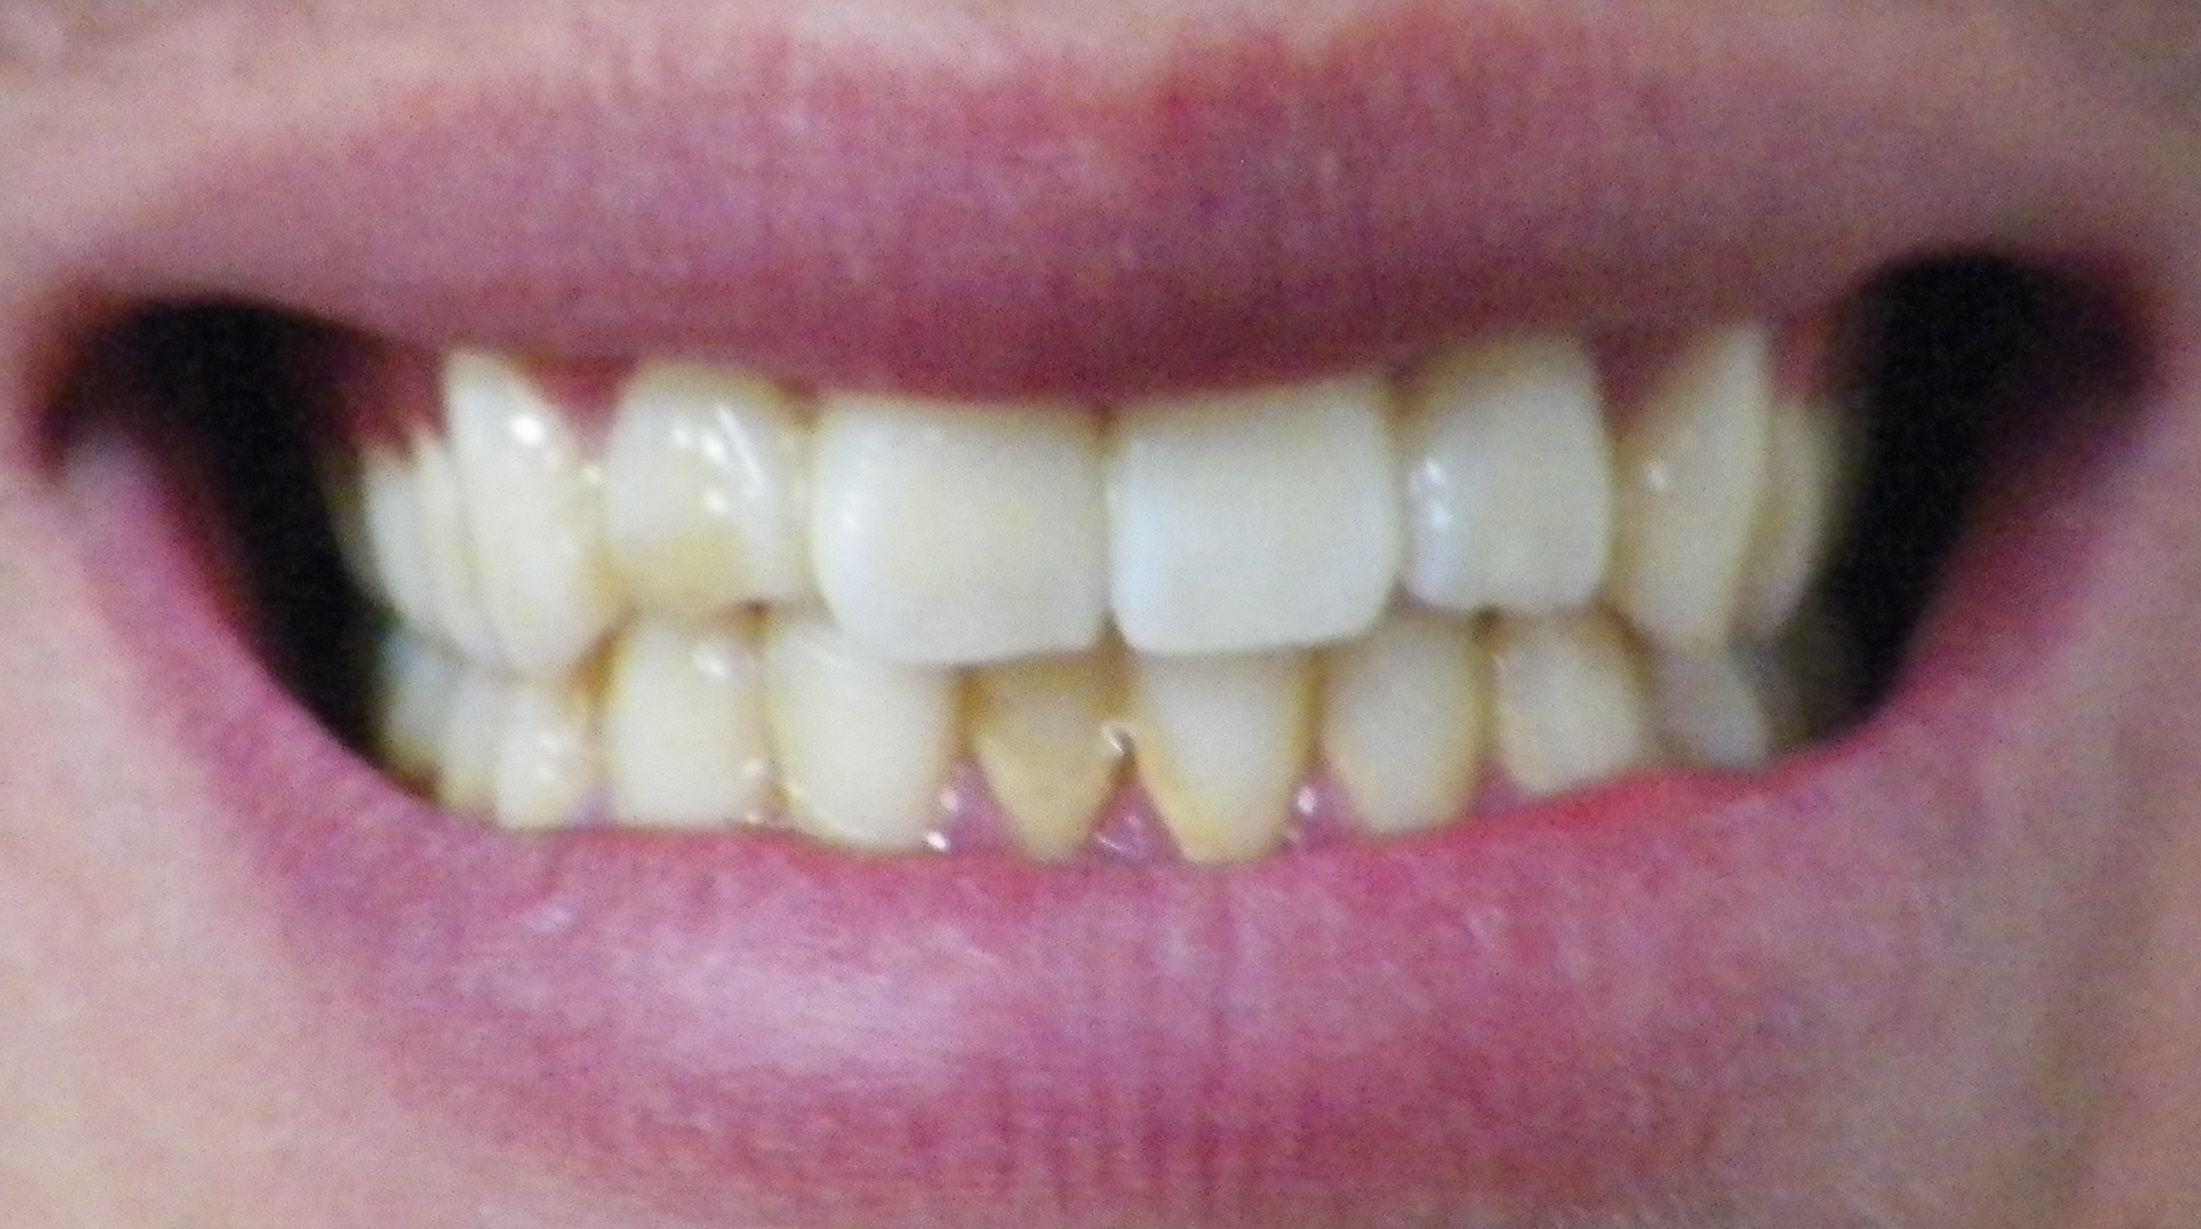boca: (317, 348, 1871, 859)
